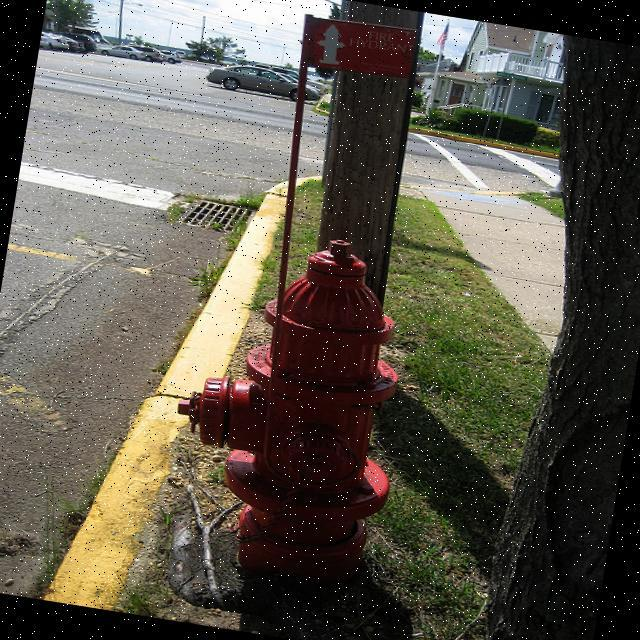fire_hydrant: (154, 220, 426, 590)
